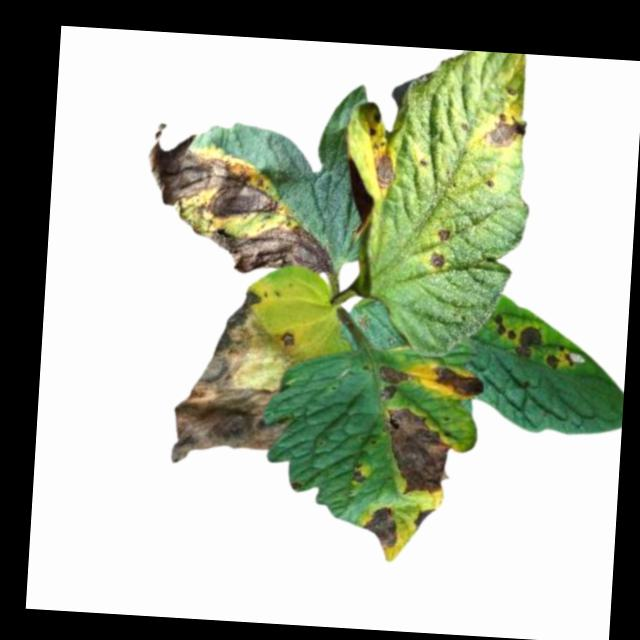Early_blight: (168, 282, 302, 471), (142, 121, 292, 221), (189, 214, 336, 280), (376, 406, 453, 498), (431, 359, 484, 400), (358, 503, 402, 550), (482, 106, 527, 151), (374, 364, 409, 402), (370, 148, 402, 189), (516, 322, 544, 360), (544, 345, 576, 372), (492, 309, 517, 339), (412, 503, 437, 533), (351, 462, 370, 487), (433, 224, 455, 244), (428, 248, 444, 270)
